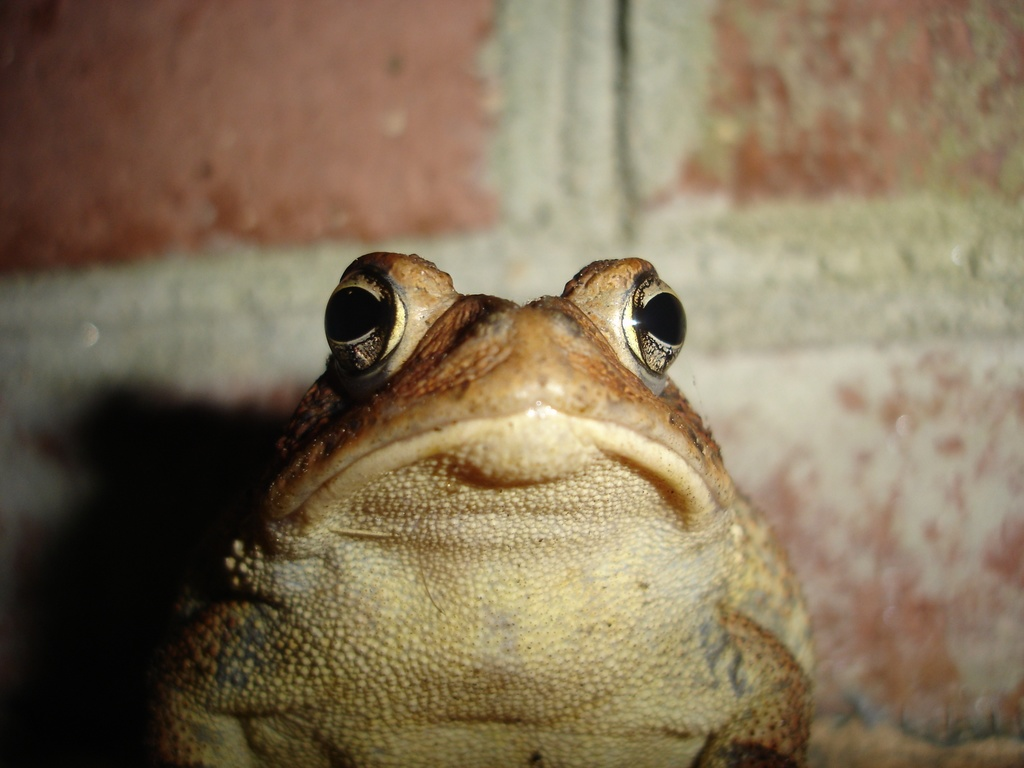Frog: (162, 251, 816, 768)
